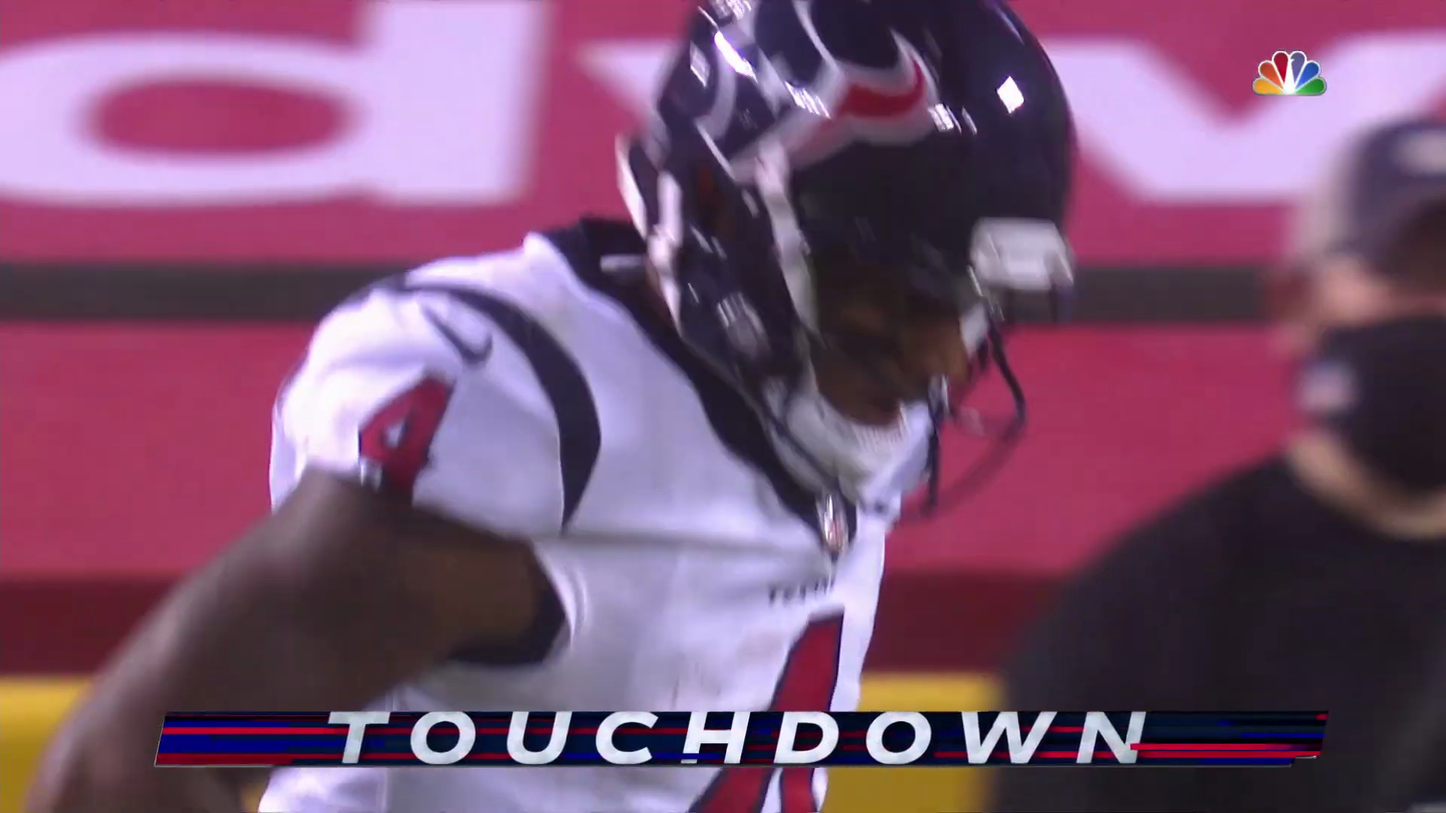Player: (585, 0, 842, 479)
